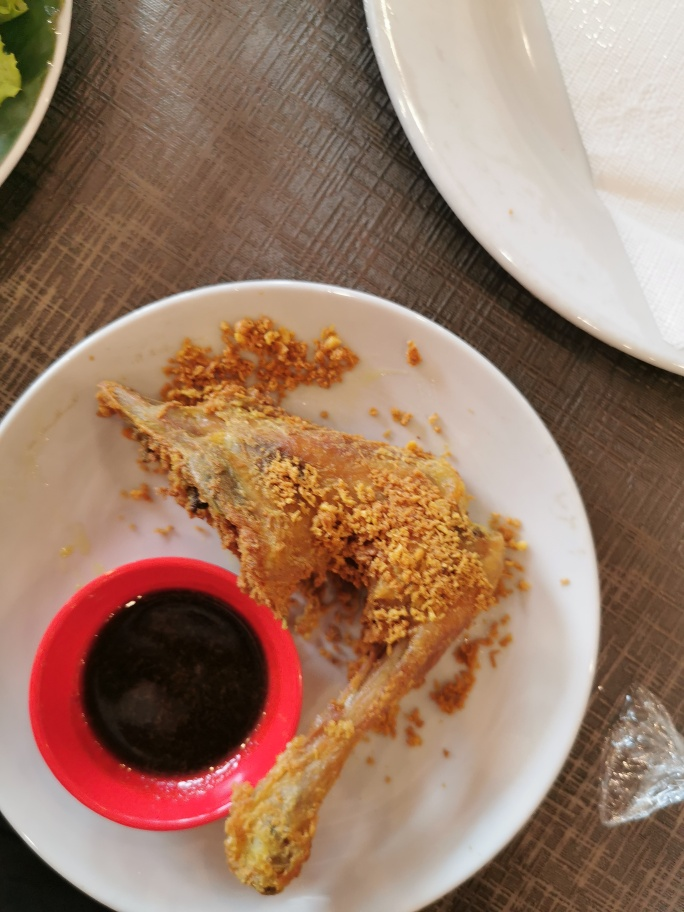ayam goreng: (89, 373, 506, 888)
kecap: (26, 553, 304, 829)
